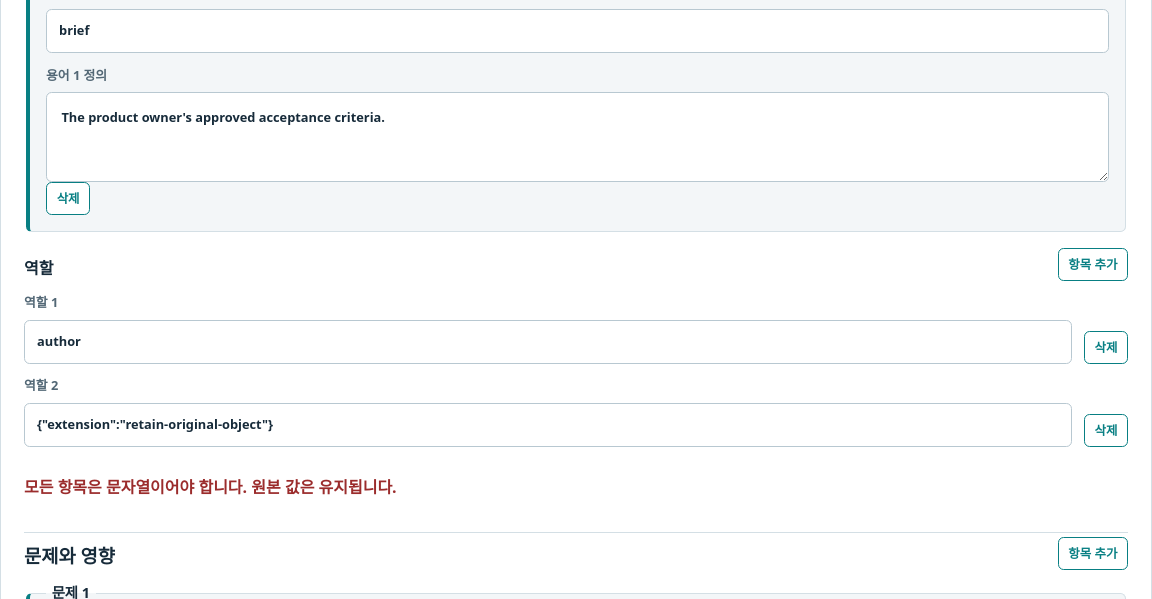
Scenario: StudioDesignPageContent › preserves an invalid string-list entry by original index during a sibling edit
(page scrolled)
Replace the text in the field labelled "역할 1" with "reviewer". click: (548, 342)
box: x1=24 y1=320 x2=1072 y2=364
(page scrolled)
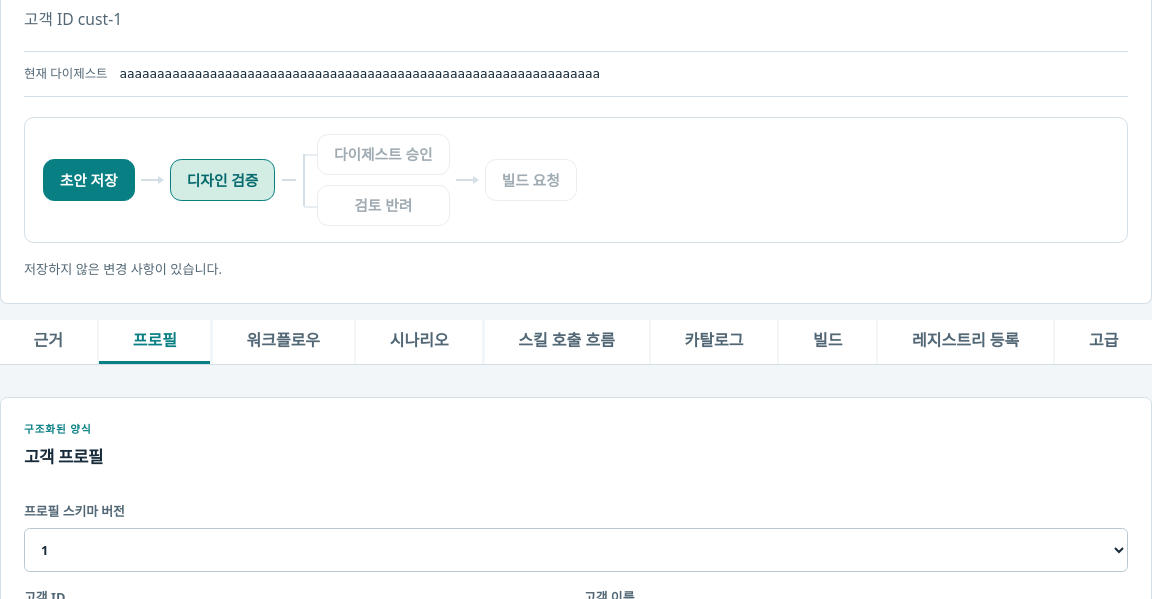
Click the tab "고급". click: click(1104, 342)
box: x1=1055 y1=320 x2=1151 y2=364
(page scrolled)
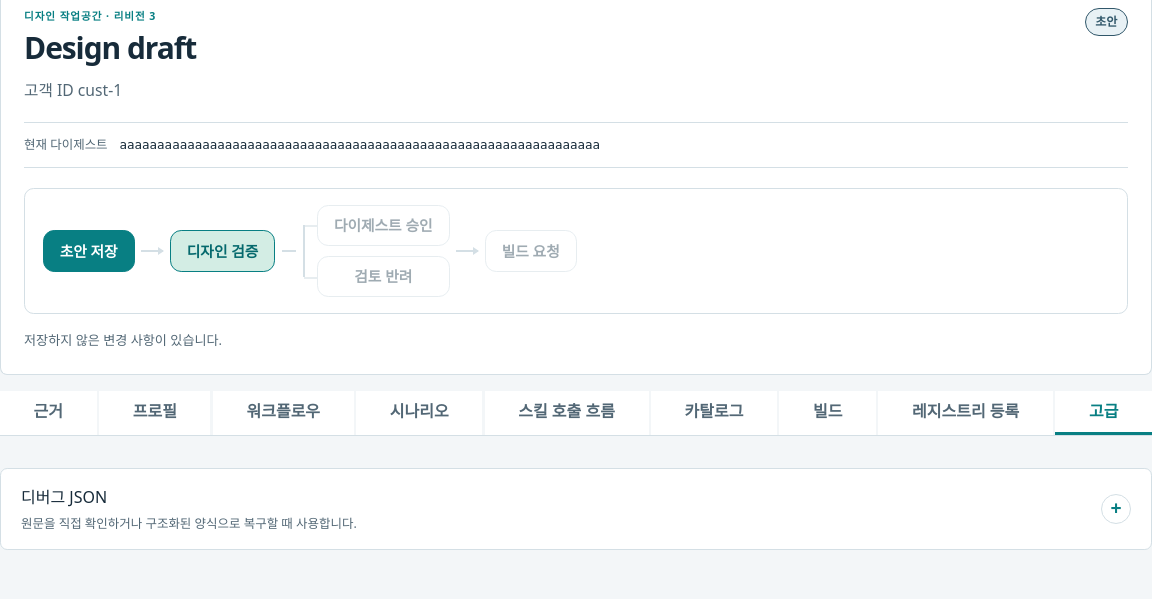
Click the text "디버그 JSON". click: click(64, 497)
box: x1=21 y1=486 x2=107 y2=508
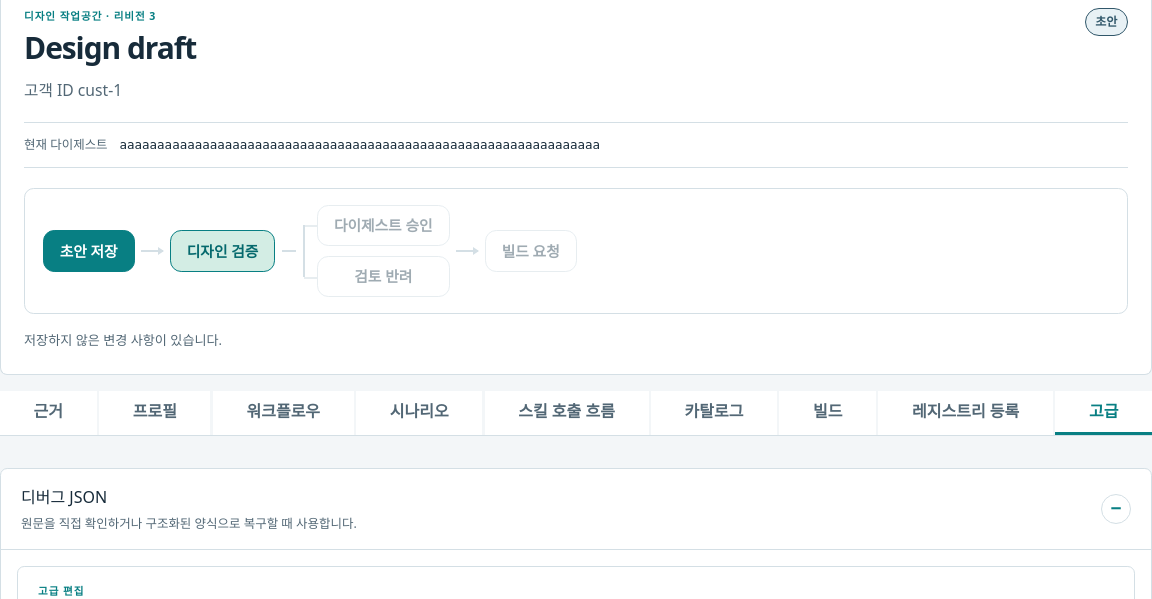
Click the tab "프로필". click: click(155, 413)
box: x1=99 y1=391 x2=210 y2=435
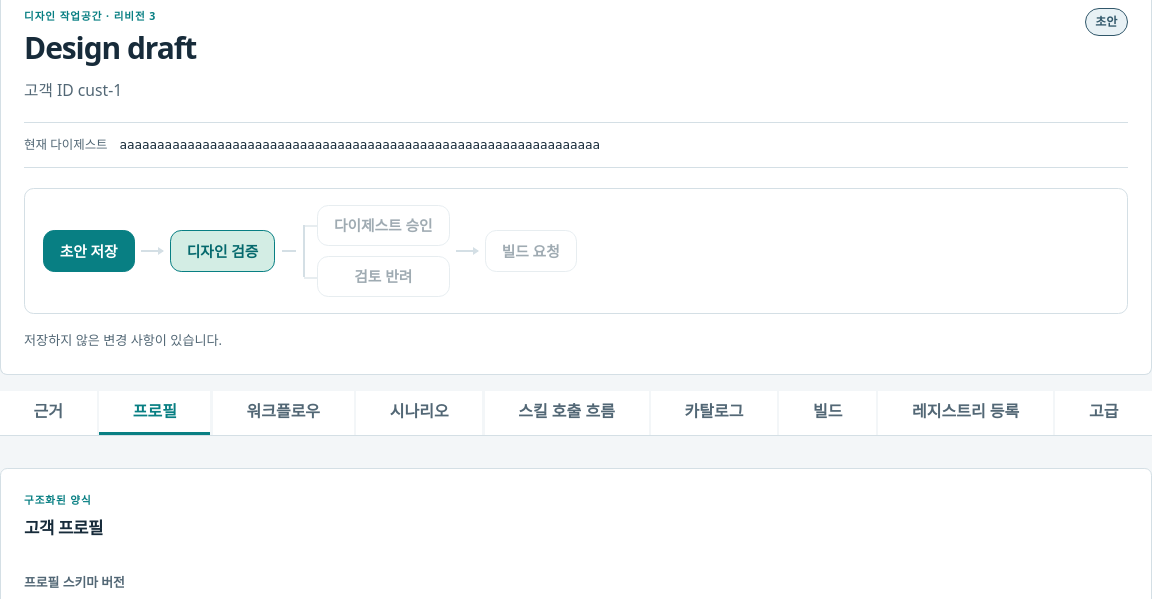
Click the button "초안 저장". click: click(89, 251)
box: x1=43 y1=230 x2=135 y2=272
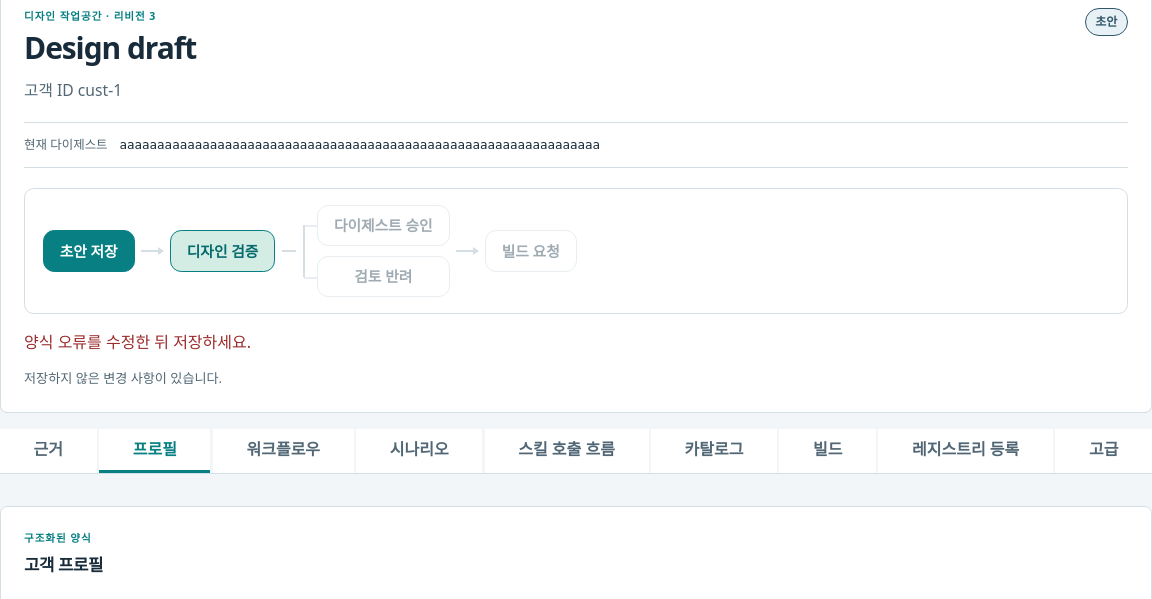
Expected: the text "양식 오류를 수정한 뒤 저장하세요." is shown, x1=24 y1=331 x2=251 y2=353
